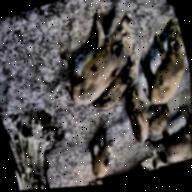boar: (44, 0, 151, 123), (121, 15, 191, 120), (91, 51, 152, 130), (141, 113, 192, 171), (75, 133, 124, 186), (123, 88, 157, 150), (144, 96, 177, 145)
